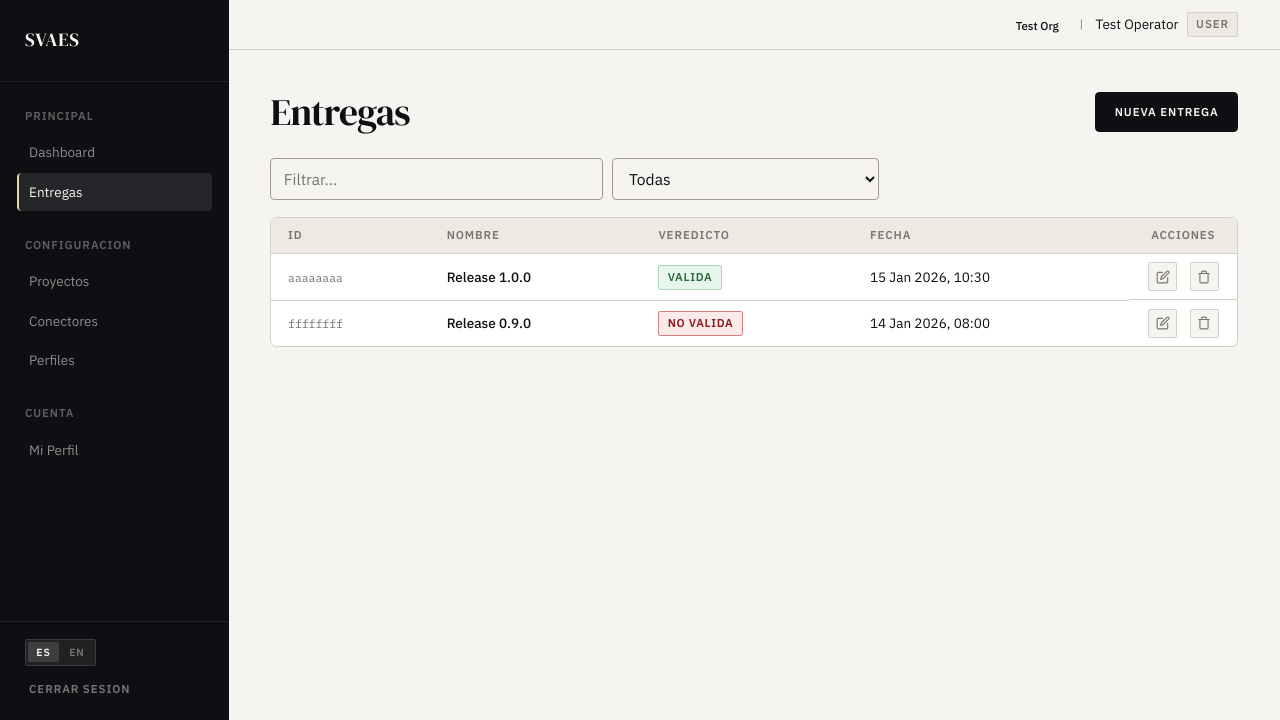
Test: TC-ACP-CU: Ciclo de Uso Principal › TC-ACP-CU-02: CU-01 RV-05=ERROR -> semáforo rojo, msg descriptivo
Click the row with class "clickable-row" that starts with "ffffffff" at (315, 324), box [271,300,1237,346]
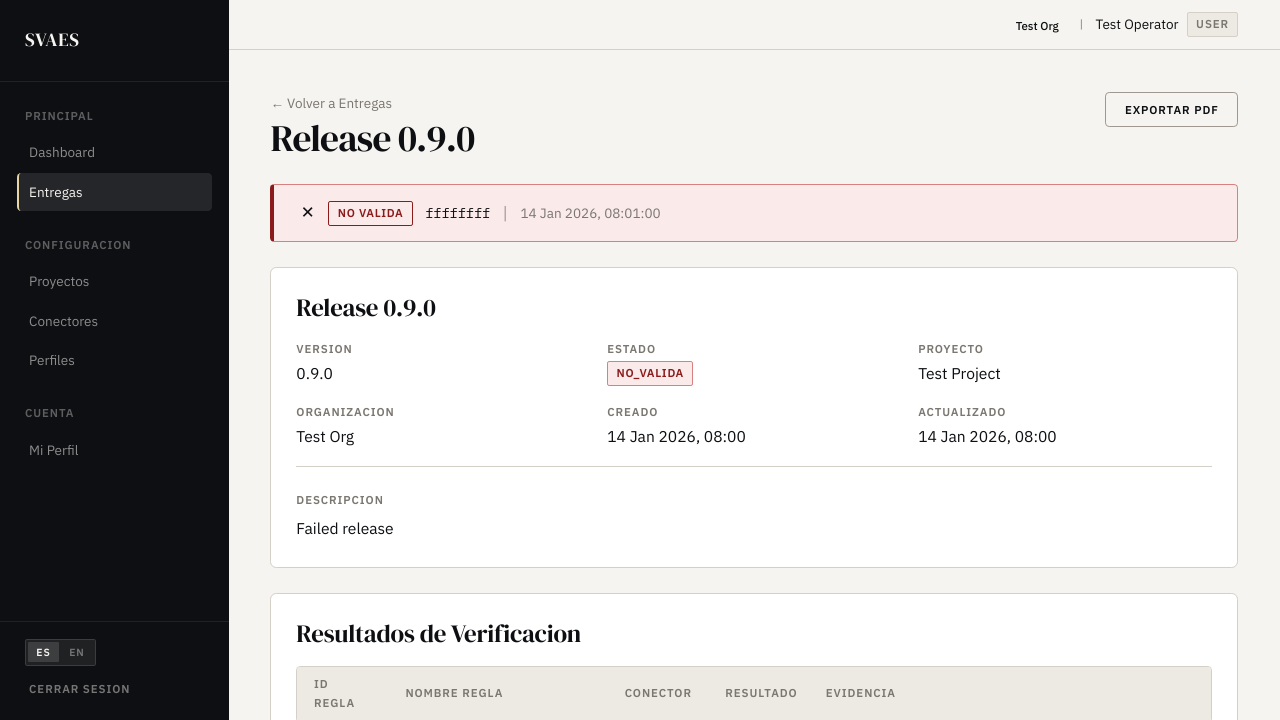
Expected: the element with class "detail-page" is shown
Expected: the element showing "✕ NO VALIDA ffffffff | 14 Jan 2026, 08:01:00" is shown, [270,184,1238,242]
